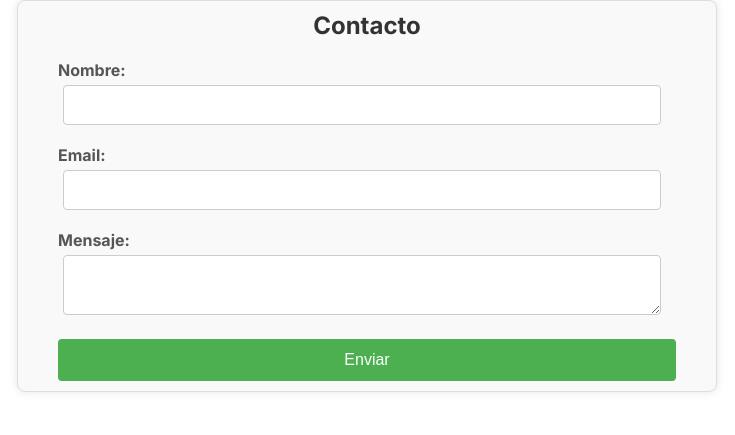
Scenario: ContactForm › displays error message when fields are missing
What coordinates should you click on to do the following:
click the button "Enviar"
I would click on:
 (367, 360)
Its box is [58,339,676,381].
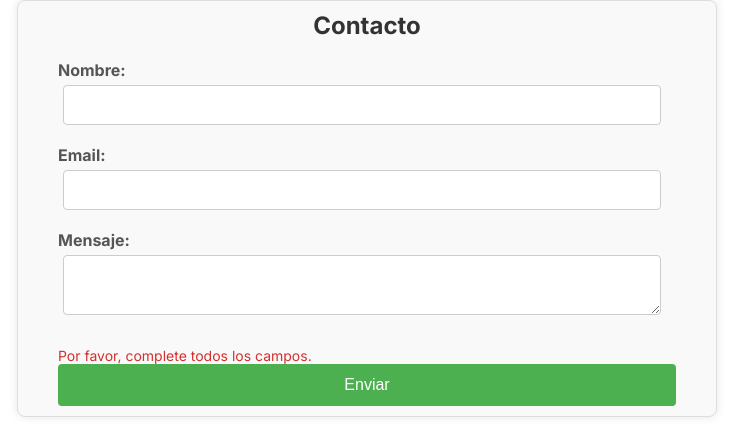
expect the text "Por favor, complete todos los campos." is shown: met, box [58,347,312,364]
